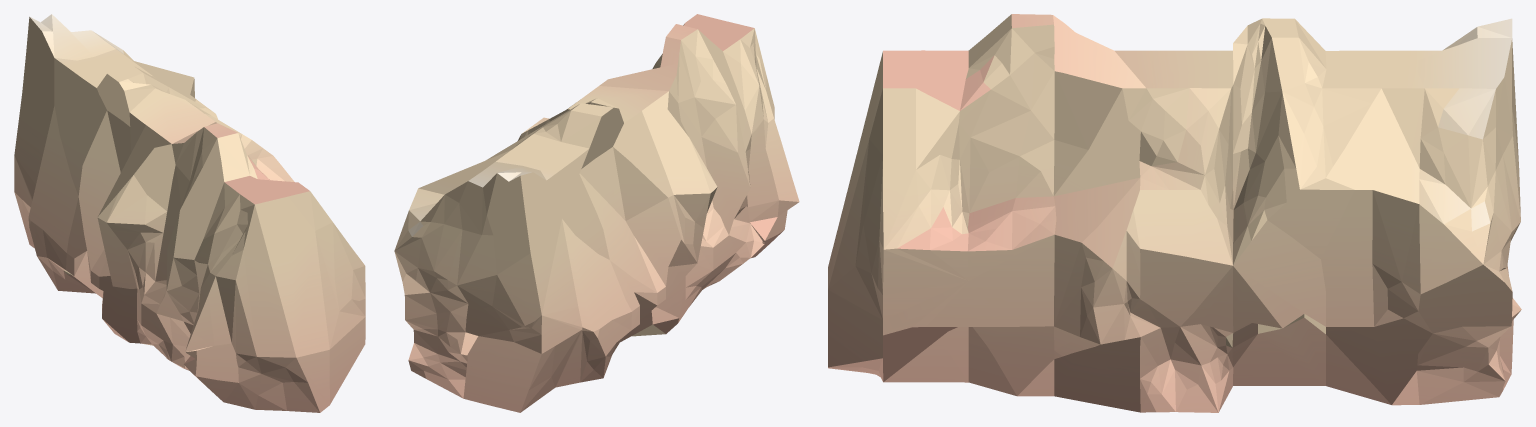
The model's file is Stones_Wall.fbx.
The picture shows the model from 3 angles, left to right: view 1: azimuth 30°, elevation 25°; view 2: azimuth 150°, elevation 25°; view 3: azimuth 270°, elevation 25°; orthographic projection. The views are drawn at different scales.
Visible parts, largest first — view 1: Wall_stones; view 2: Wall_stones; view 3: Wall_stones.
Part boxes in pixels (x1,y1,x2,y2): Wall_stones: [14, 14, 365, 412]; Wall_stones: [394, 14, 799, 412]; Wall_stones: [828, 14, 1521, 412].
Size of the model in its own units: 176 by 203 by 387.
